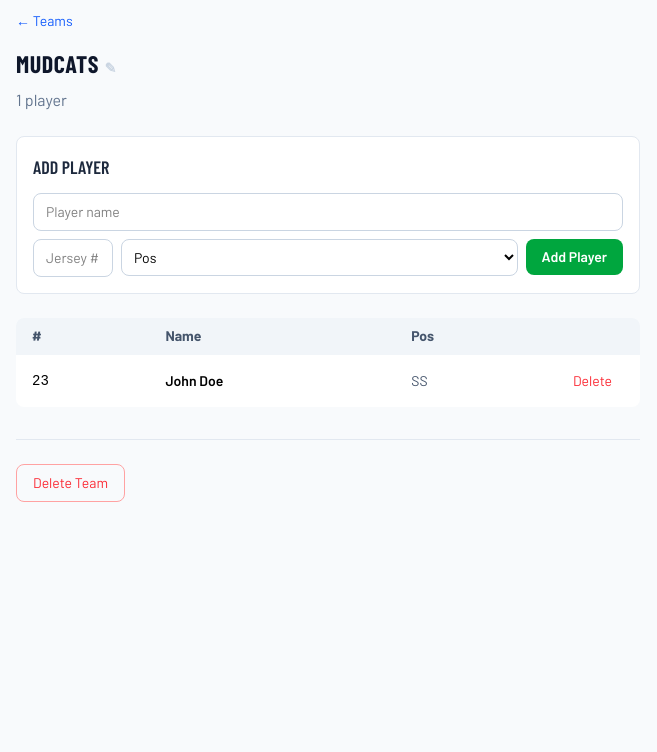
Test: TeamDetailPage › should delete a player from the roster
expect the text "John Doe" is shown: met, box x1=149 y1=354 x2=395 y2=407
Click the button "Delete" at (592, 381), box x1=561 y1=363 x2=624 y2=399
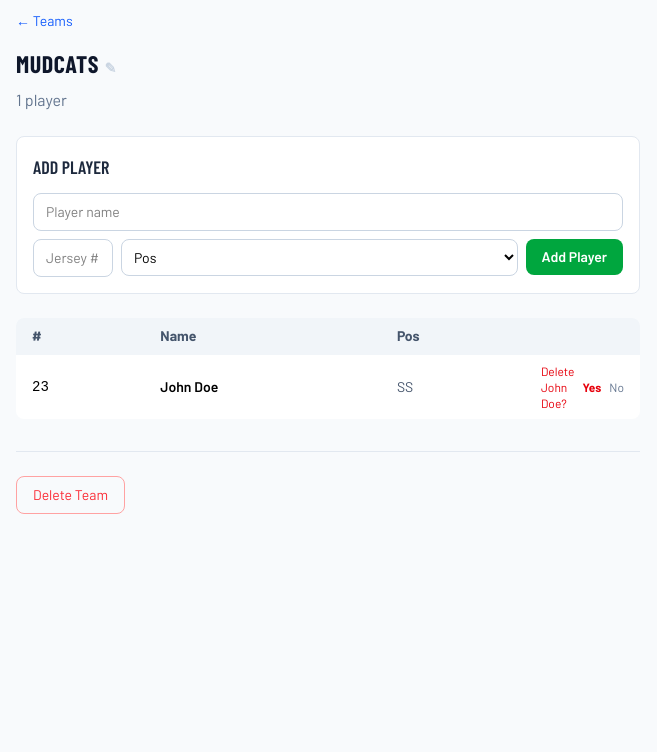
Click the button "Yes" at (592, 387), box x1=582 y1=379 x2=601 y2=395
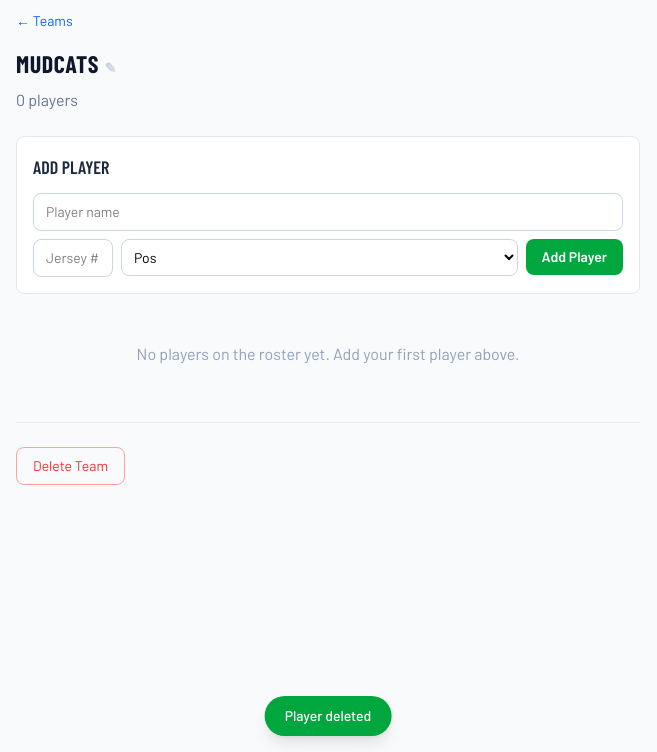
expect the text "John Doe" is gone: met
